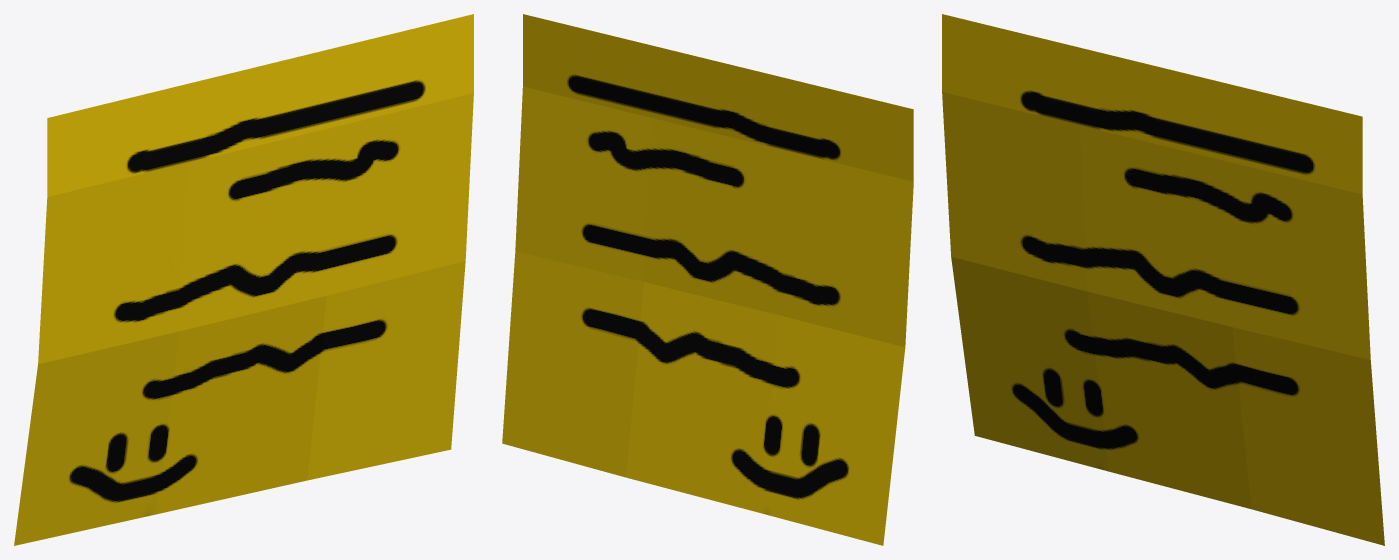
File: StickyNotes.glb
3 views of the same model, side by side, from view 1: azimuth 30°, elevation 25°; view 2: azimuth 150°, elevation 25°; view 3: azimuth 330°, elevation 25° (orthographic). The views are drawn at different scales.
Parts seen in each view (by area): view 1: Sticky Note; view 2: Sticky Note; view 3: Sticky Note.
Part boxes in pixels (left/top/right/bottom): Sticky Note: left=14, top=14, right=473, bottom=545; Sticky Note: left=502, top=14, right=913, bottom=545; Sticky Note: left=942, top=14, right=1384, bottom=545.
Size of the model in its own units: 0.9057 by 0.9172 by 0.1222.
Materials: 1 (1 with a texture image).
